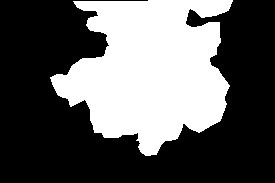Fire: (65, 52, 229, 157)
